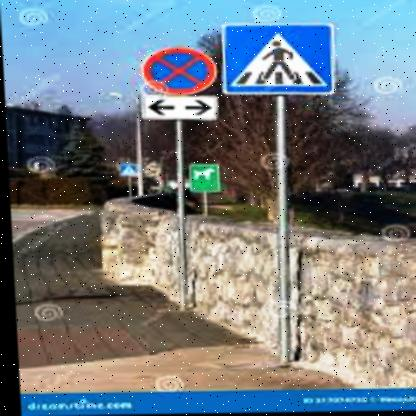No stopping: (139, 46, 224, 99)
